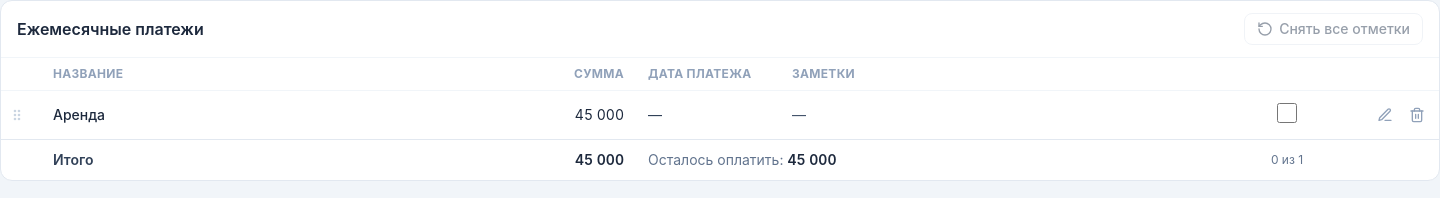
Test: PaymentsTable › поля редактируются только после нажатия «Редактировать»
Check: the text "Аренда" is shown, box x1=53 y1=106 x2=105 y2=123
Click the button named "Редактировать" at (1385, 115), box x1=1371 y1=101 x2=1399 y2=129
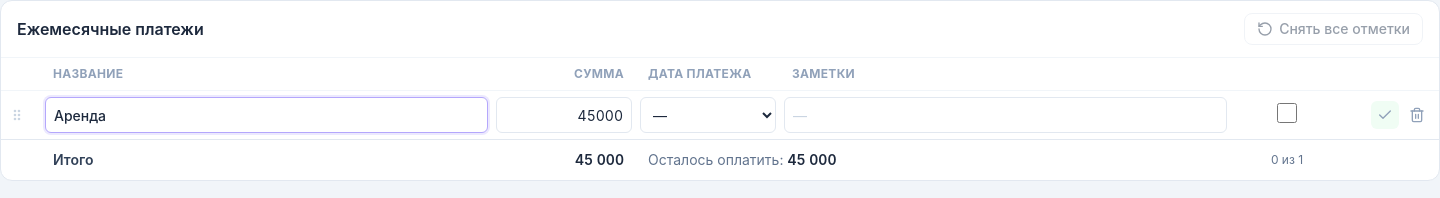
Replace the text in the field named "Название" with "Аренда квартиры" at (266, 115), box x1=45 y1=97 x2=488 y2=133
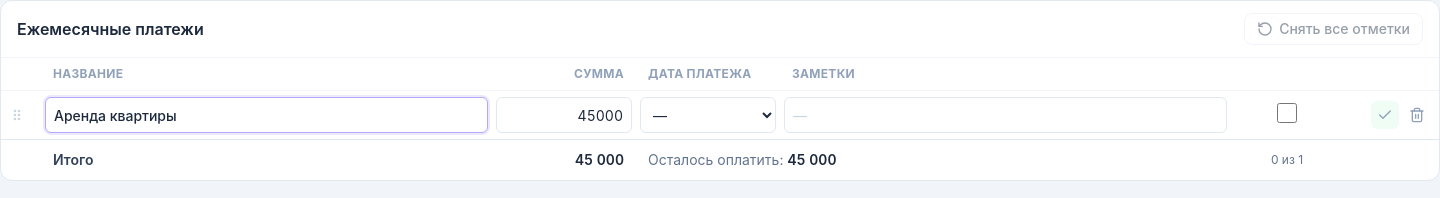
Click the button named "Сохранить" at (1385, 115), box x1=1371 y1=101 x2=1399 y2=129
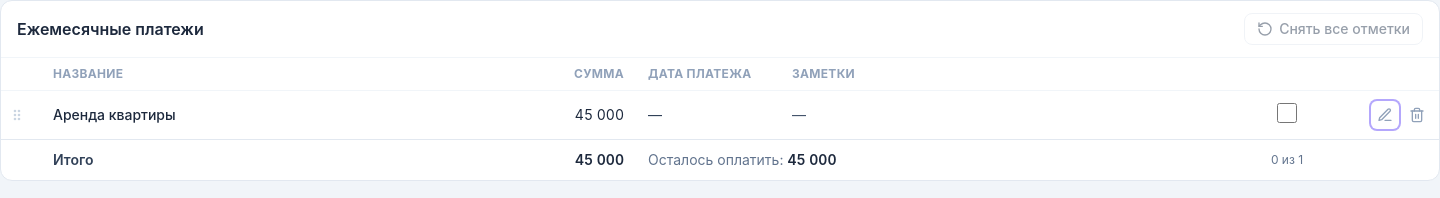
Check: the text "Аренда квартиры" is shown, box x1=53 y1=106 x2=176 y2=123
Check: the button named "Редактировать" is shown, box x1=1371 y1=101 x2=1399 y2=129
